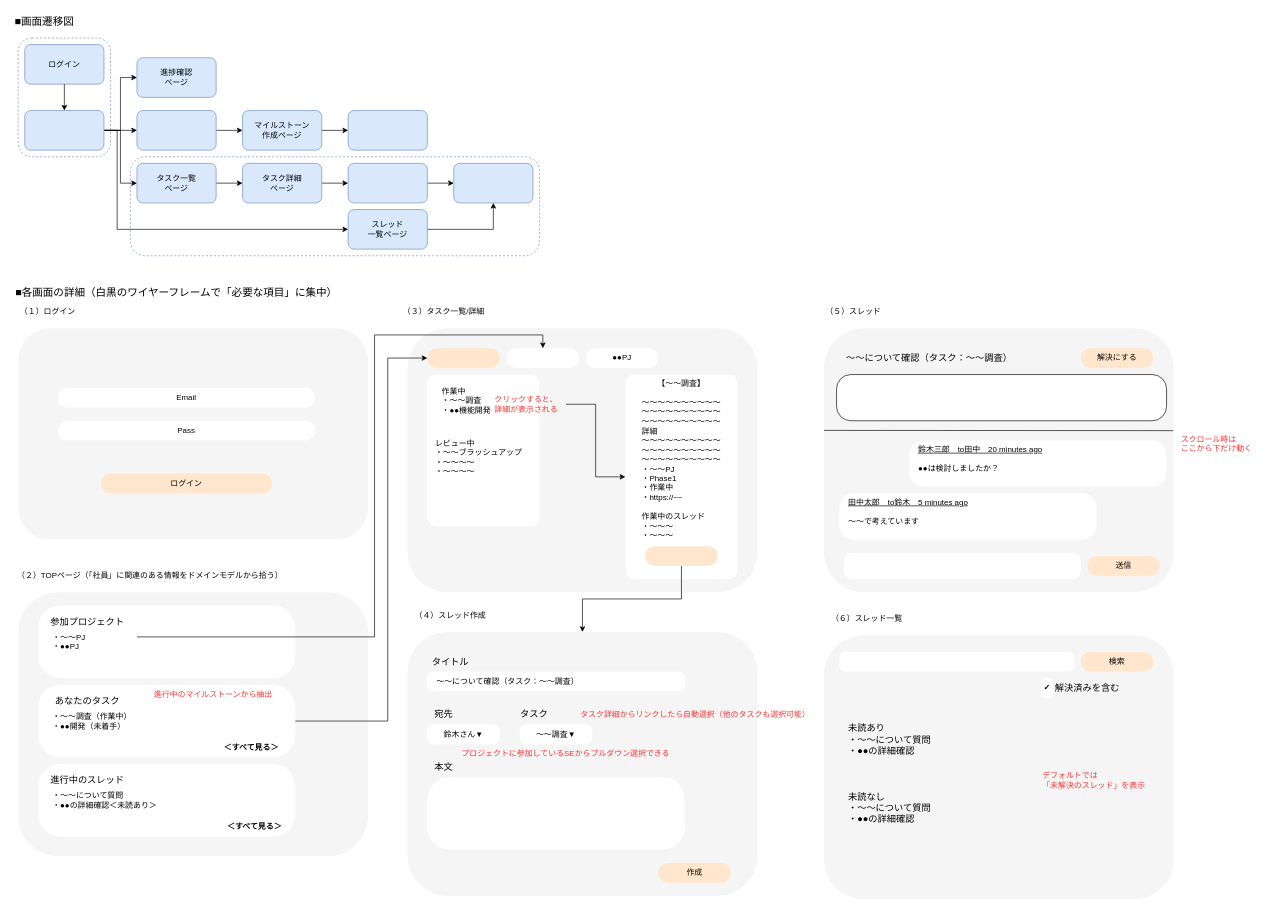
The diagram is 1270 pixels wide and 910 high, and some of its shapes have lost their labels. Each missing label, with the box of its shape:
TOPページ: (24, 110, 104, 150)
スレッド: (453, 163, 533, 203)
スレッド 作成ページ: (347, 163, 427, 203)
スレッド作成: (645, 546, 717, 566)
タスク 作成ページ: (347, 110, 427, 150)
プロジェクト 作成ページ: (136, 110, 216, 150)
全てのタスク: (427, 348, 500, 368)
田中太郎 to鈴木 30 minutes ago ～～は●●の理解でよろしいでしょうか？: (836, 374, 1167, 421)
～～PJ: (506, 348, 579, 368)
～～は●●の理解でよろしいでしょうか？: (427, 777, 684, 849)
